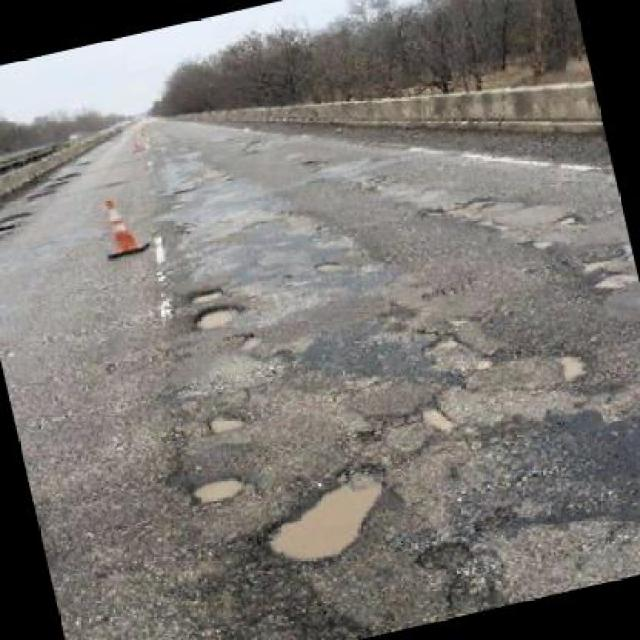pothole1: (247, 458, 399, 574), (408, 532, 498, 623), (420, 187, 518, 231), (185, 469, 249, 509), (187, 299, 247, 336), (417, 398, 460, 439), (552, 348, 592, 386), (585, 266, 638, 292), (202, 407, 248, 436), (418, 330, 462, 356), (183, 280, 225, 306), (578, 253, 618, 273), (308, 254, 344, 275), (552, 209, 583, 231), (524, 234, 556, 254), (467, 351, 495, 372)
